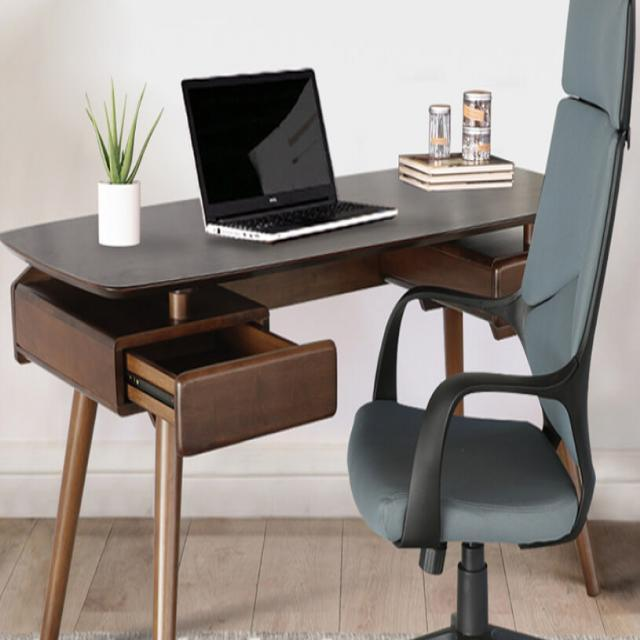table: (5, 170, 603, 358)
